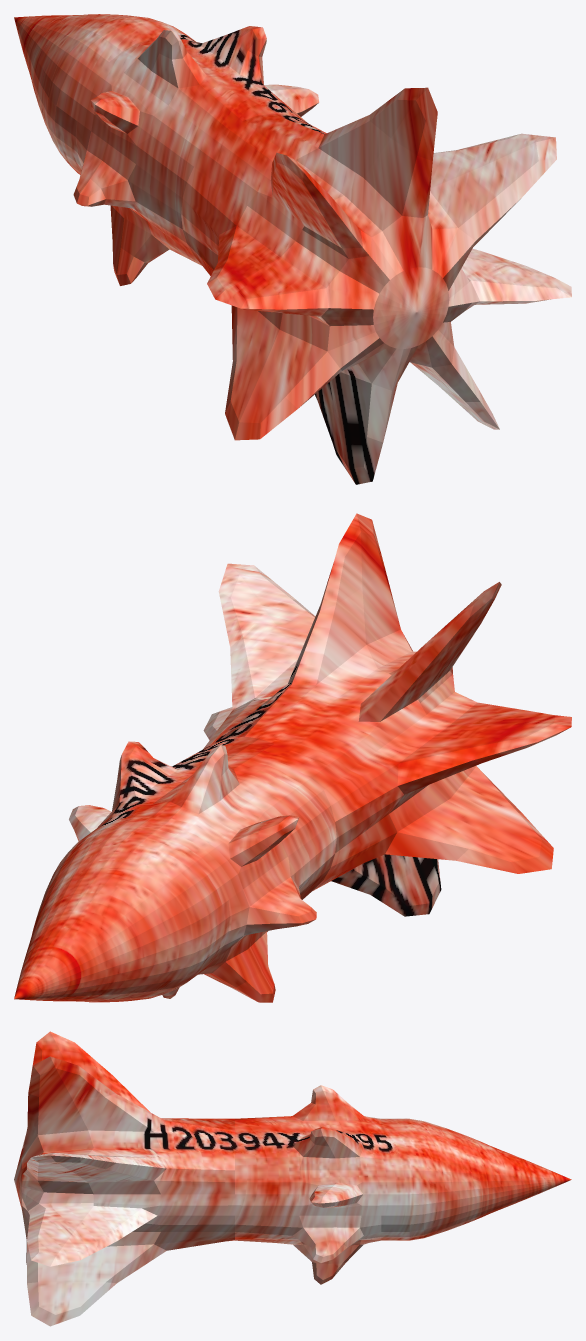
Rendered from missel2.obj.
The picture shows the model from 3 angles, top to bottom: view 1: azimuth 30°, elevation 25°; view 2: azimuth 150°, elevation 25°; view 3: azimuth 270°, elevation 25°; orthographic projection. The views are drawn at different scales.
Visible parts, largest first — view 1: ShapeIndexedFaceSet; view 2: ShapeIndexedFaceSet; view 3: ShapeIndexedFaceSet.
Boxes of the visible parts, <box> form: ShapeIndexedFaceSet: <box>14,14,571,484</box>; ShapeIndexedFaceSet: <box>14,513,571,1002</box>; ShapeIndexedFaceSet: <box>14,1031,571,1326</box>.
Size of the model in its own units: 0.4326 by 0.4403 by 0.8475.
1 material, 1 textured.
